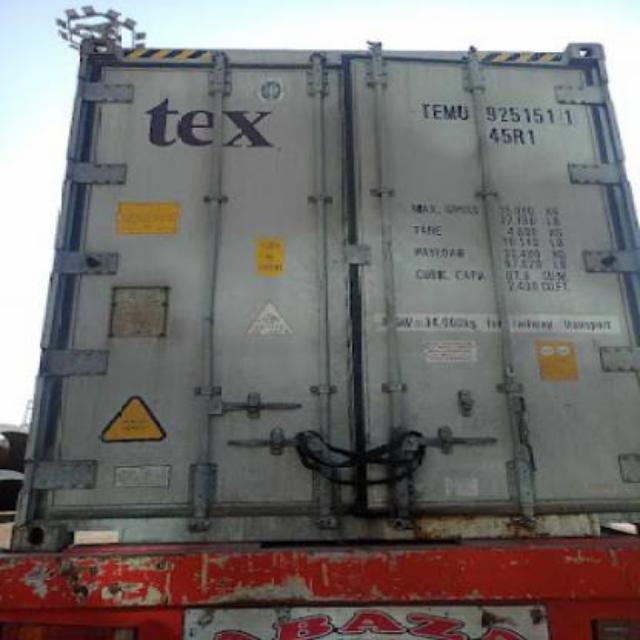1: (562, 103, 580, 127), (544, 102, 558, 126), (522, 101, 534, 122)
2: (498, 100, 506, 124)
5: (508, 98, 522, 124), (532, 102, 546, 128)
9: (482, 99, 498, 123)
E: (431, 98, 444, 122)
M: (444, 100, 458, 122)
T: (418, 98, 432, 119)
U: (458, 100, 472, 124)
